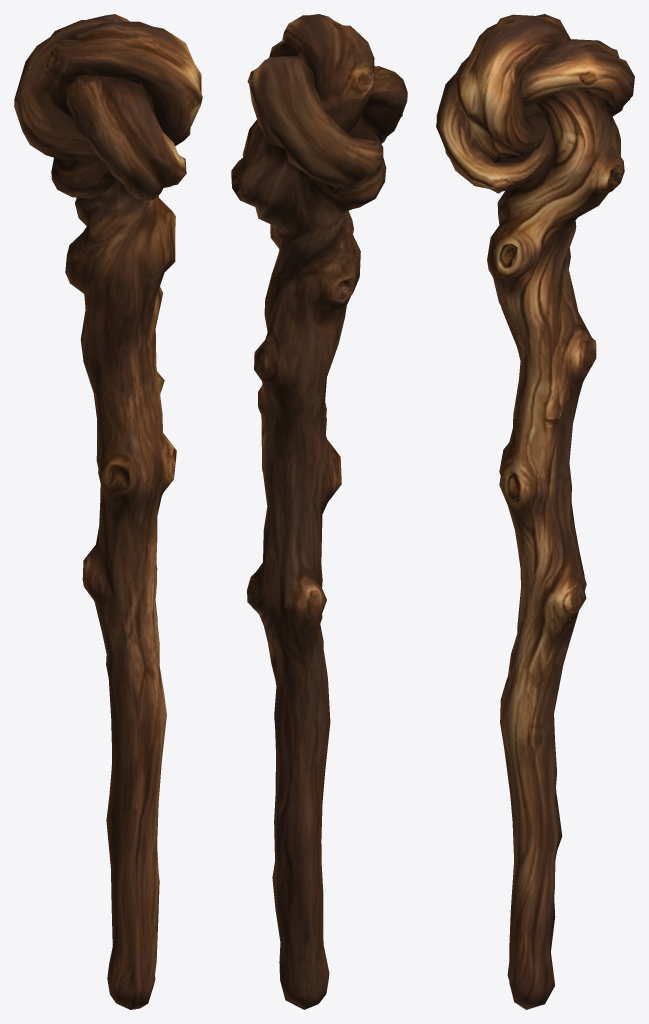
The model's file is cajado.glb.
3 views of the same model, side by side, from view 1: azimuth 30°, elevation 25°; view 2: azimuth 150°, elevation 25°; view 3: azimuth 270°, elevation 25° (orthographic).
Visible parts, largest first — view 1: tripo_node_5a75ee77-84fe-4002-9f5a-c00be131fe2a; view 2: tripo_node_5a75ee77-84fe-4002-9f5a-c00be131fe2a; view 3: tripo_node_5a75ee77-84fe-4002-9f5a-c00be131fe2a.
Boxes of the visible parts, x1=… form: tripo_node_5a75ee77-84fe-4002-9f5a-c00be131fe2a: x1=14, y1=14, x2=202, y2=1009; tripo_node_5a75ee77-84fe-4002-9f5a-c00be131fe2a: x1=231, y1=14, x2=407, y2=1009; tripo_node_5a75ee77-84fe-4002-9f5a-c00be131fe2a: x1=436, y1=14, x2=634, y2=1009.
Size of the model in its own units: 0.1499 by 1 by 0.1842.
1 material, 1 textured.
